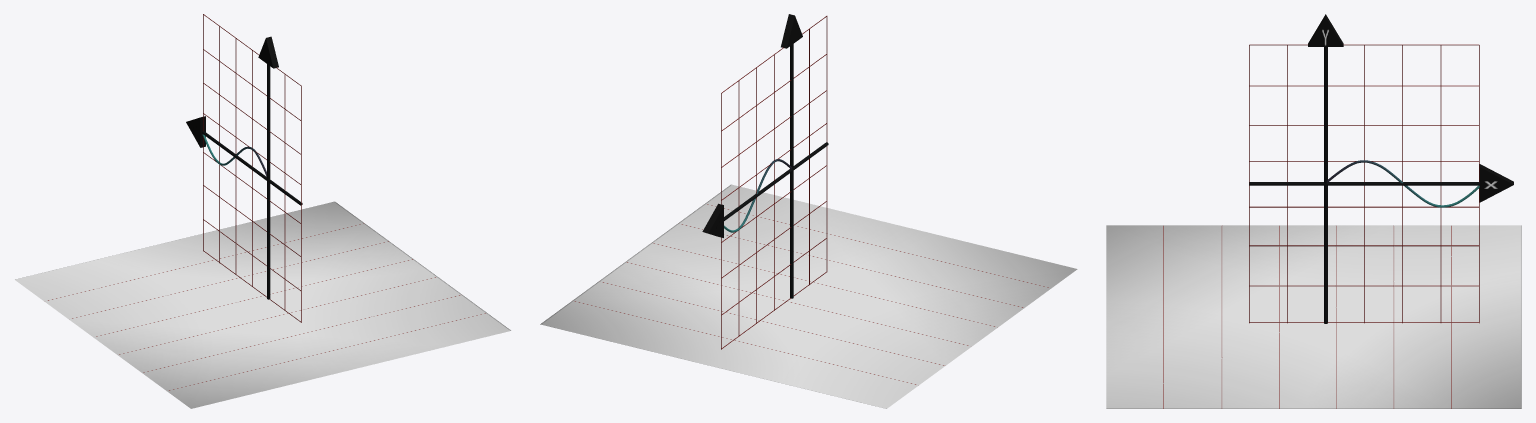
The model's file is y=ksenx mayor.fbx.
3 renders of one model, left to right at view 1: azimuth 30°, elevation 25°; view 2: azimuth 150°, elevation 25°; view 3: azimuth 270°, elevation 25°, orthographic. The views are drawn at different scales.
Parts seen in each view (by area): view 1: senoidal:plane:pPlane1, senoidal:pCylinder37, senoidal:pCylinder25, senoidal:pCylinder31, senoidal:pCylinder36; view 2: senoidal:plane:pPlane1, senoidal:pCylinder37, senoidal:pCylinder36, senoidal:pCylinder33, senoidal:pCylinder23; view 3: senoidal:plane:pPlane1, senoidal:pCylinder37, senoidal:pCylinder36, senoidal:nueva_flecha_x:polySurface1, senoidal:Nueva_flecha_y:polySurface1, senoidal:pCylinder33, senoidal:senoidal1:Mesh, senoidal:pCylinder13, senoidal:pCylinder3, senoidal:pCylinder15, senoidal:pCylinder10, senoidal:pCylinder1.
Part boxes in pixels (box(x1,y1,x2,y2)): senoidal:plane:pPlane1: box(15, 201, 510, 408); senoidal:pCylinder37: box(267, 64, 270, 299); senoidal:pCylinder25: box(284, 74, 285, 310); senoidal:pCylinder31: box(235, 38, 236, 274); senoidal:pCylinder36: box(202, 131, 302, 205); senoidal:plane:pPlane1: box(540, 184, 1077, 408); senoidal:pCylinder37: box(790, 44, 793, 298); senoidal:pCylinder36: box(724, 142, 828, 220); senoidal:pCylinder33: box(738, 81, 739, 336); senoidal:pCylinder23: box(826, 16, 827, 271); senoidal:plane:pPlane1: box(1106, 225, 1521, 408); senoidal:pCylinder37: box(1324, 47, 1327, 323); senoidal:pCylinder36: box(1249, 182, 1479, 185); senoidal:nueva_flecha_x:polySurface1: box(1479, 164, 1513, 202); senoidal:Nueva_flecha_y:polySurface1: box(1308, 14, 1343, 46); senoidal:pCylinder33: box(1440, 45, 1441, 322); senoidal:senoidal1:Mesh: box(1327, 160, 1479, 207); senoidal:pCylinder13: box(1249, 245, 1478, 246); senoidal:pCylinder3: box(1249, 85, 1478, 86); senoidal:pCylinder15: box(1249, 285, 1478, 286); senoidal:pCylinder10: box(1249, 206, 1478, 207); senoidal:pCylinder1: box(1249, 44, 1478, 45).
Bounding box in the file's own units: 56.75 × 44.29 × 54.19.
